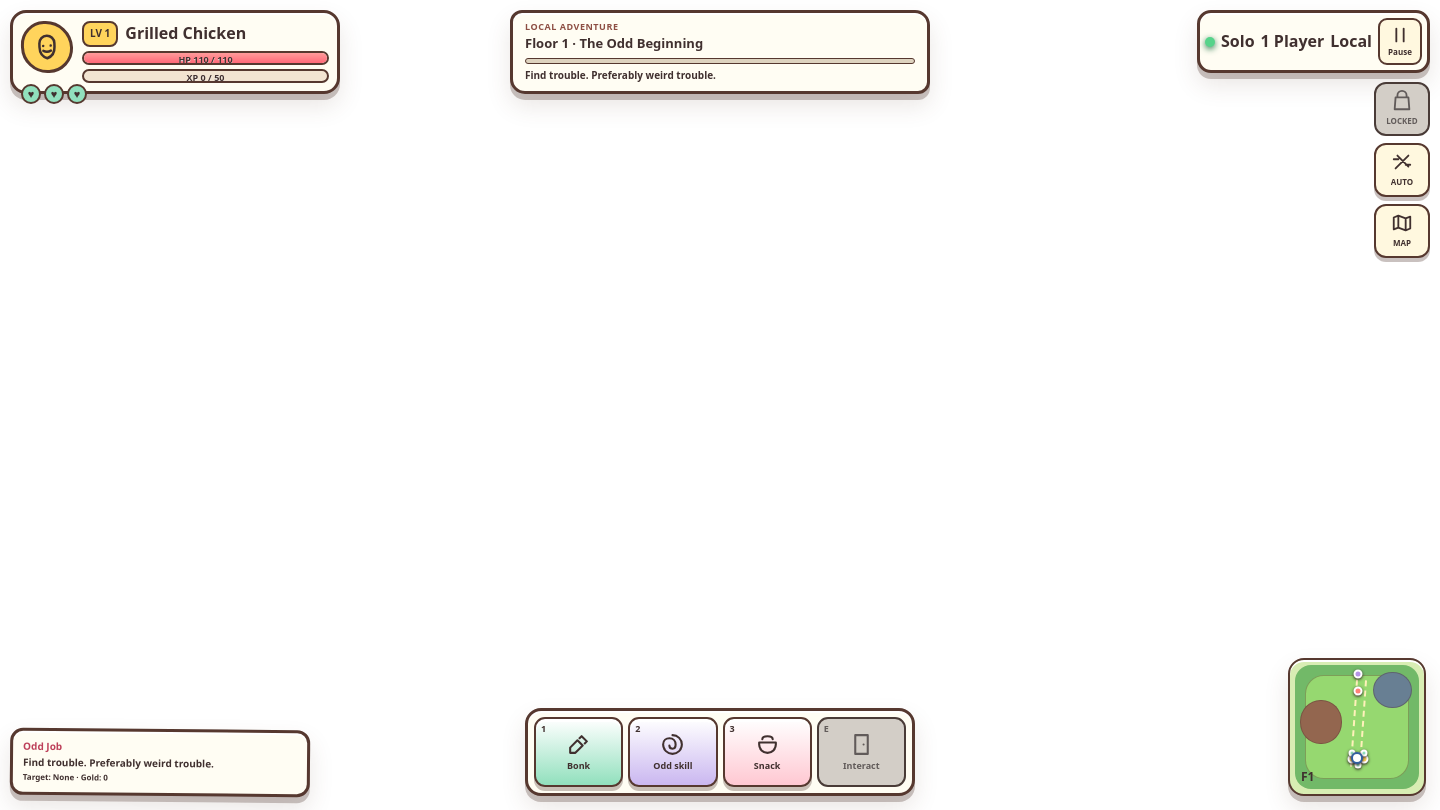
Test: Sticker Adventure Tower HUD › opens the Floor 1 map and restores focus when closed
Click the button named "open floor 1 map".
click(1357, 727)  # box [1288,658,1426,796]
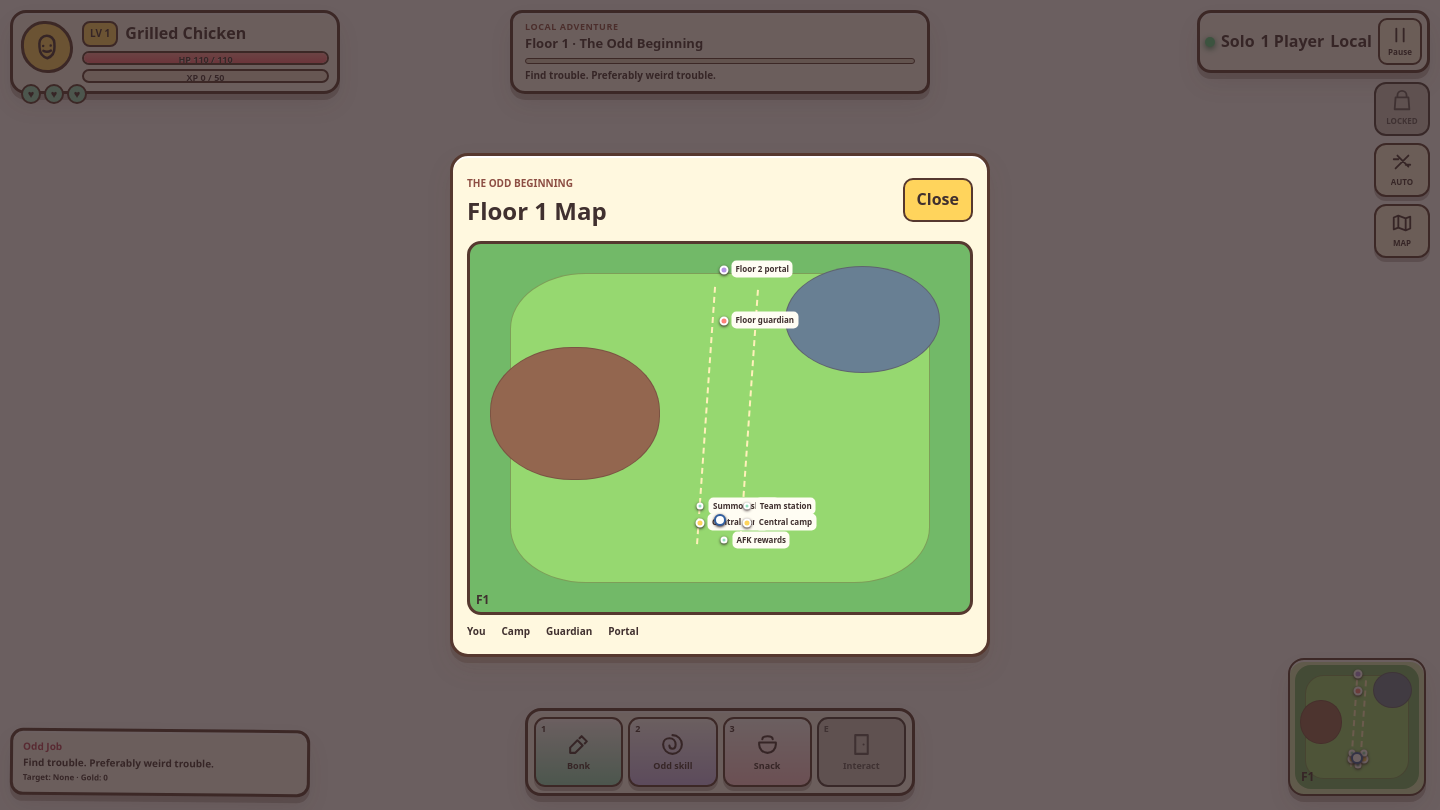
Result: the dialog "Floor 1 Map" is shown at [450,153,990,657]
Press Escape
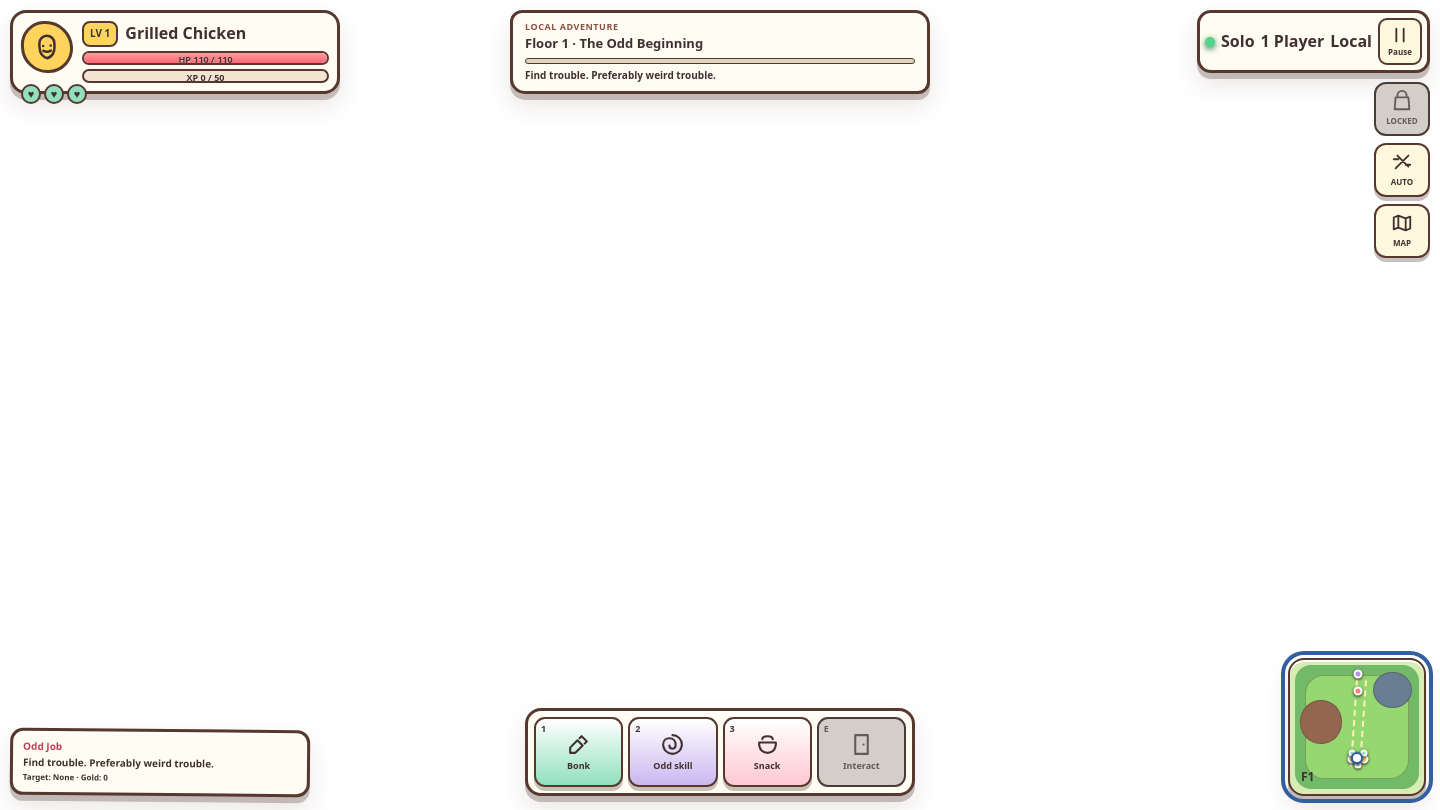
Result: the heading "Floor 1 Map" is gone
